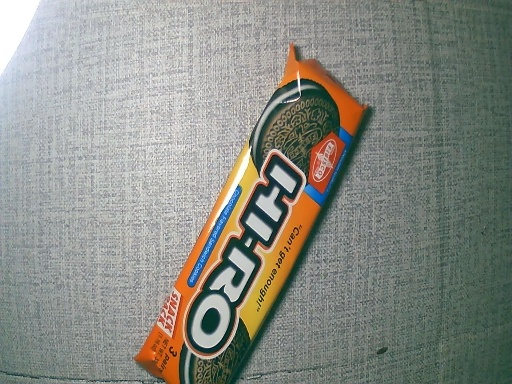plastic: (135, 47, 370, 384)
